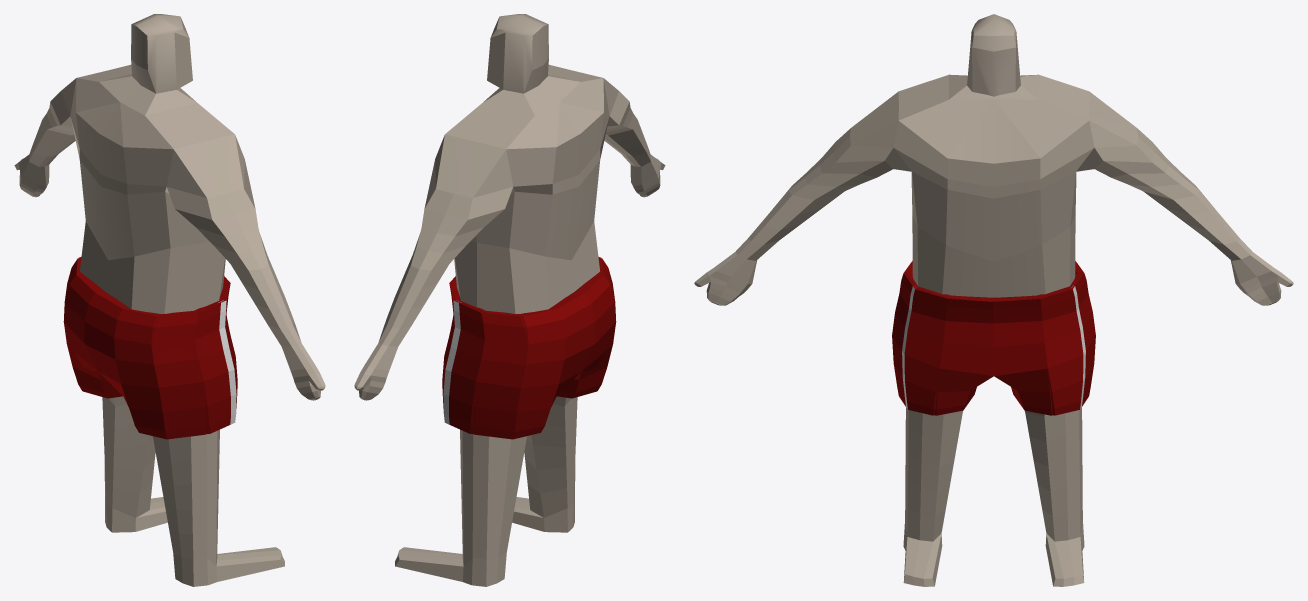
The model's file is bigboss.fbx.
The picture shows the model from 3 angles, left to right: view 1: azimuth 30°, elevation 25°; view 2: azimuth 150°, elevation 25°; view 3: azimuth 270°, elevation 25°; orthographic projection. The views are drawn at different scales.
Visible parts, largest first — view 1: Cube.001; view 2: Cube.001; view 3: Cube.001.
Boxes of the visible parts, x1,y1,x2,y2 form: Cube.001: (14, 14, 325, 586); Cube.001: (354, 14, 665, 586); Cube.001: (694, 14, 1293, 586).
Size of the model in its own units: 226 by 712 by 737.
